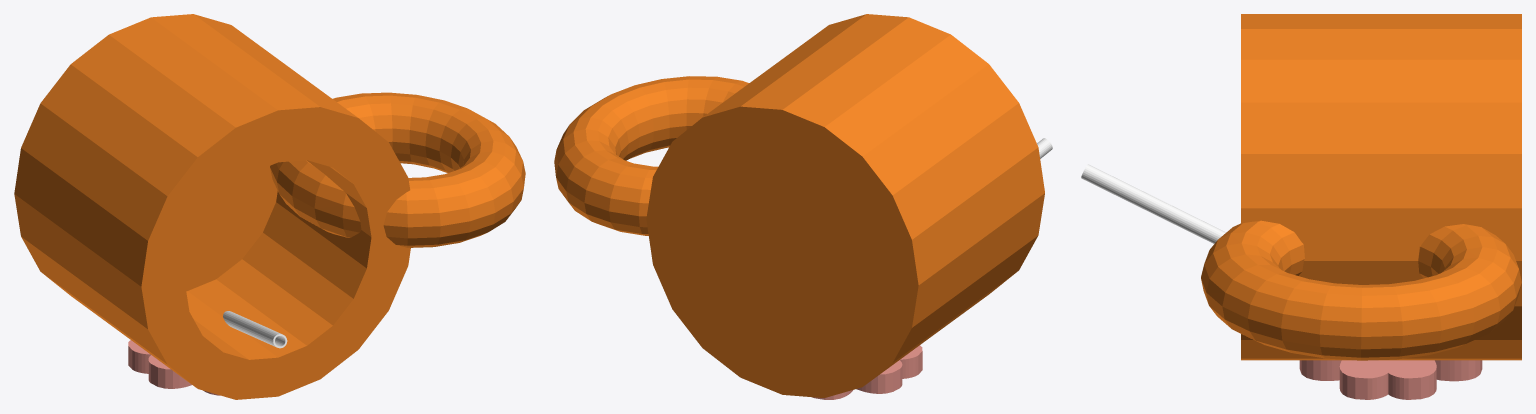
The model's file is tinker.obj.
3 renders of one model, left to right at view 1: azimuth 30°, elevation 25°; view 2: azimuth 150°, elevation 25°; view 3: azimuth 270°, elevation 25°, orthographic. The views are drawn at different scales.
Parts seen in each view (by area): view 1: group_0_16089887, group_0_15308428, group_0_16448250; view 2: group_0_16089887, group_0_15308428; view 3: group_0_16089887, group_0_15308428, group_0_16448250.
Boxes of the visible parts, x1,y1,x2,y2 form: group_0_16089887: (14, 14, 525, 399); group_0_15308428: (128, 340, 219, 395); group_0_16448250: (223, 311, 287, 348); group_0_16089887: (554, 14, 1044, 397); group_0_15308428: (812, 345, 922, 399); group_0_16089887: (1201, 14, 1521, 360); group_0_15308428: (1299, 360, 1482, 399); group_0_16448250: (1081, 164, 1225, 243).
Bounding box in the file's own units: 67 × 46 × 55.56.
